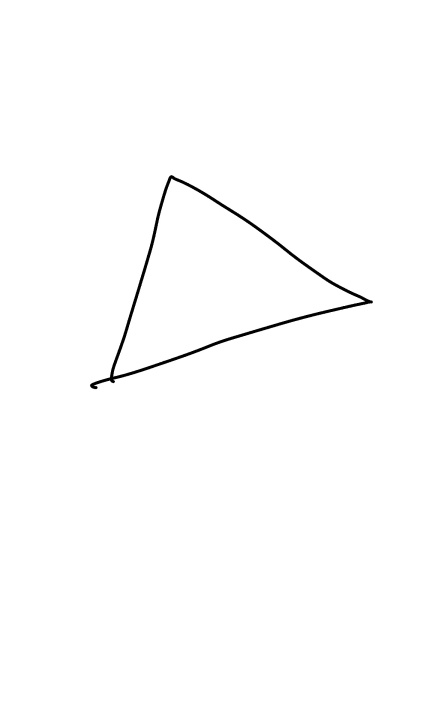Triangle: (86, 170, 377, 392)
